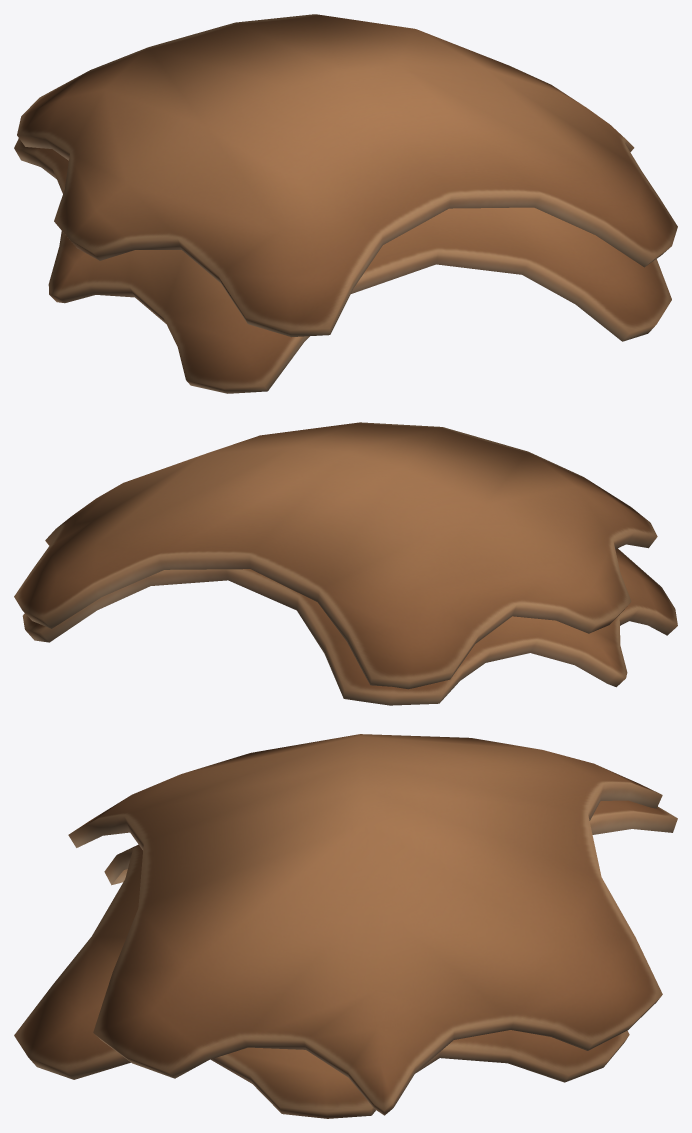
The model's file is carrySkin2.fbx.
3 renders of one model, top to bottom at view 1: azimuth 30°, elevation 25°; view 2: azimuth 150°, elevation 25°; view 3: azimuth 270°, elevation 25°, orthographic. The views are drawn at different scales.
Visible parts, largest first — view 1: carrySkins; view 2: carrySkins; view 3: carrySkins.
Part boxes in pixels (bbox=[...]): carrySkins: bbox=[14, 14, 677, 393]; carrySkins: bbox=[14, 422, 677, 705]; carrySkins: bbox=[14, 734, 677, 1118].
Bounding box in the file's own units: 50.63 × 15.71 × 46.14.
1 material, 1 textured.
